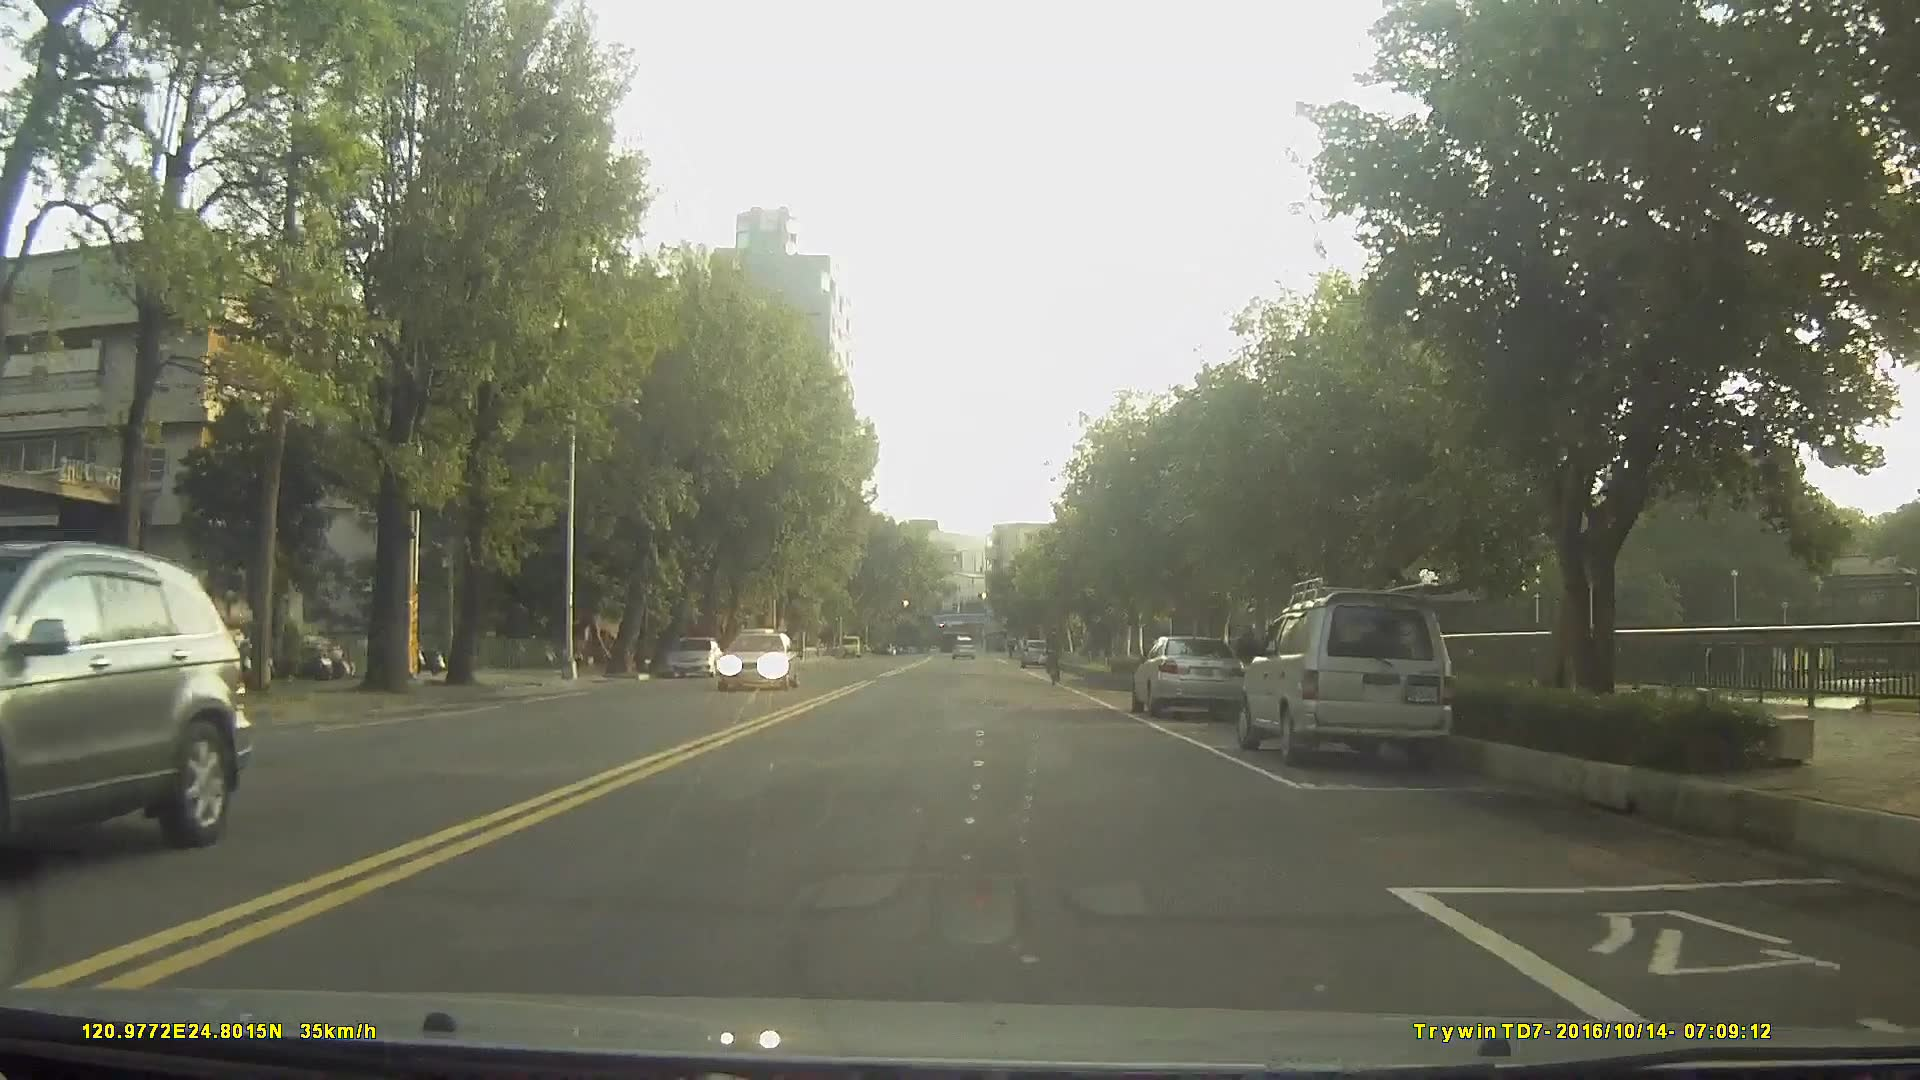rider: (1045, 625, 1066, 691)
vehicle: (0, 537, 251, 884), (1234, 588, 1456, 771), (1131, 632, 1251, 722), (714, 628, 802, 690), (664, 634, 722, 678), (731, 631, 777, 675), (1019, 636, 1050, 669), (947, 634, 975, 661)
